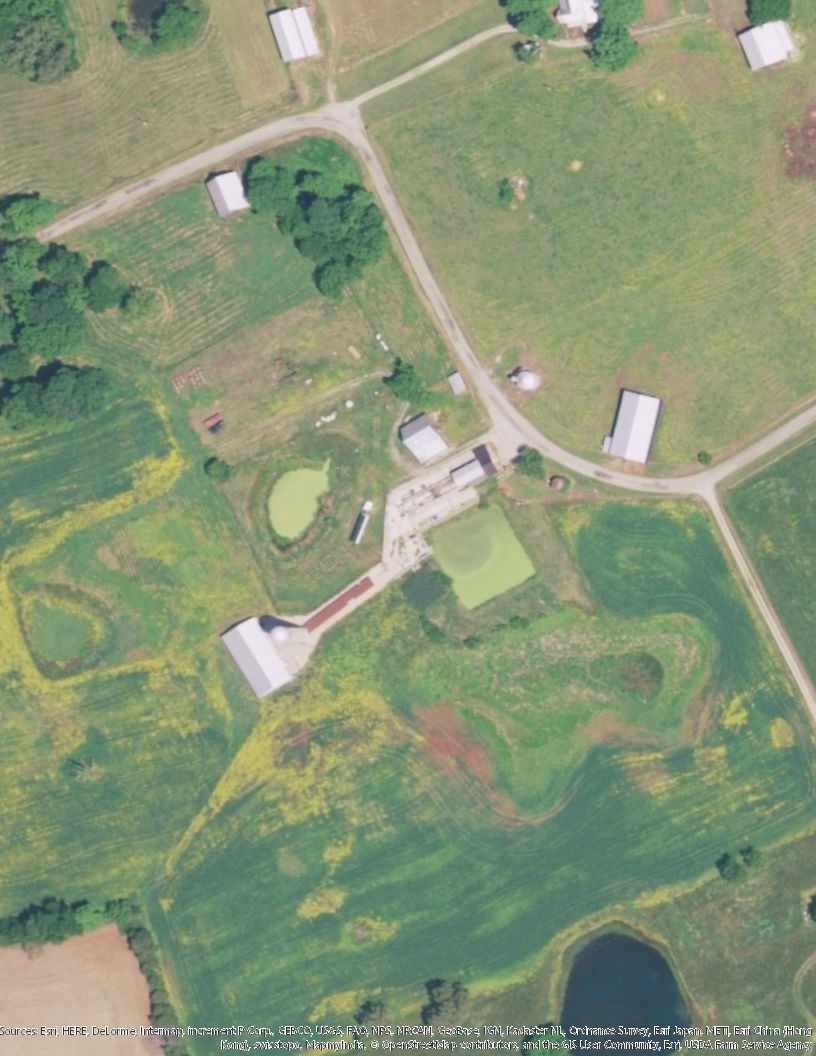cafo: (217, 607, 301, 705), (598, 385, 663, 469), (729, 16, 803, 73), (269, 3, 319, 69)
